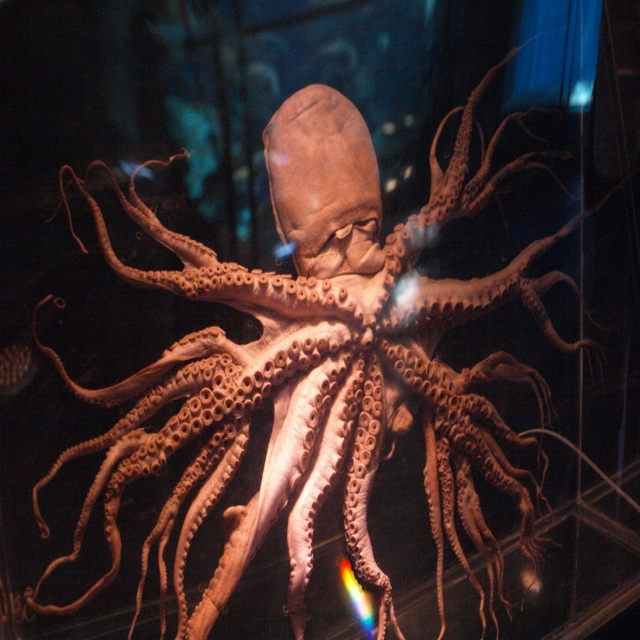Squid: (22, 30, 640, 640)
